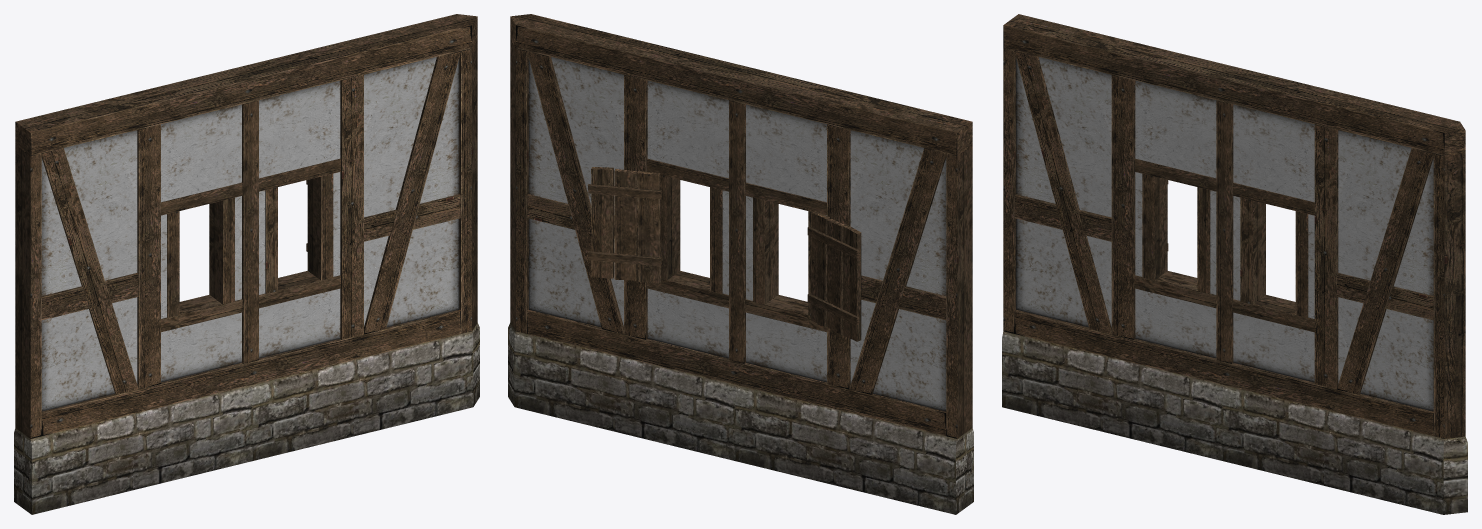
The model's file is timberWallWindow.dae.
The picture shows the model from 3 angles, left to right: view 1: azimuth 30°, elevation 25°; view 2: azimuth 150°, elevation 25°; view 3: azimuth 330°, elevation 25°; orthographic projection.
Visible parts, largest first — view 1: timberWallWindow; view 2: timberWallWindow; view 3: timberWallWindow.
Boxes of the visible parts, x1,y1,x2,y2 form: timberWallWindow: (14, 14, 479, 514); timberWallWindow: (508, 14, 973, 514); timberWallWindow: (1002, 14, 1467, 514).
Bounding box in the file's own units: 4.14 × 3.3 × 0.4893.
Materials: 1 (1 with a texture image).
